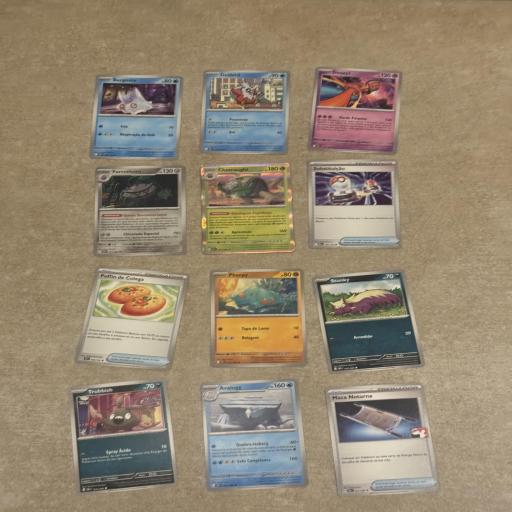card: (324, 374, 441, 505), (311, 259, 426, 384), (65, 377, 179, 496), (200, 376, 310, 493), (73, 264, 190, 372), (208, 268, 307, 367), (92, 165, 187, 257), (200, 163, 295, 254), (307, 66, 403, 155), (308, 159, 402, 249), (88, 74, 183, 161), (199, 70, 290, 155)
